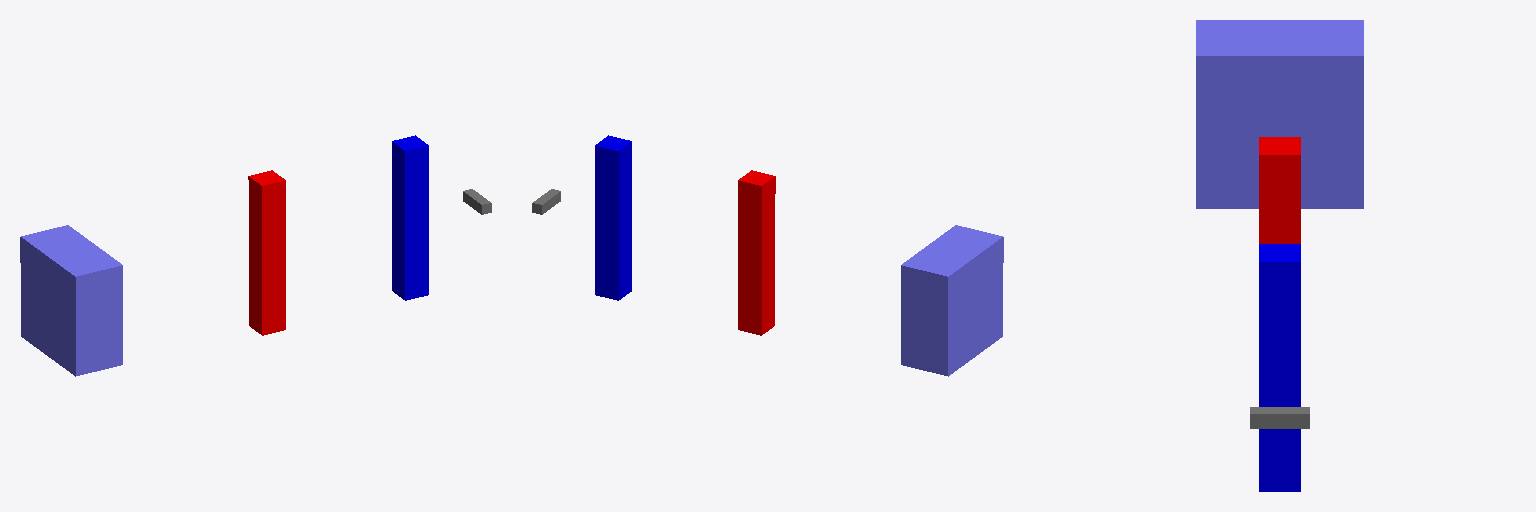
URDF robot description (Chain):
<?xml version="1.0"?>
<robot name="Chain">
<link name="base_link">

       <visual>
      <geometry>
	<box size="0.002 0.002 0.001" />
      </geometry>
      <origin rpy="0 1.57 0" xyz="0 0 0"/>
      <material name="black">
        <color rgba="0.5 0.5 1 1"/>
      </material>
    </visual>

    <collision>
      <geometry>
	<box size="0.002 0.002 0.001" />
      </geometry>
      <origin rpy="0 1.57 0" xyz="0 0 0"/>
    </collision>
    <inertial>
	<mass value="5"/>
	<inertia ixx="1.0" ixy="0.0" ixz="0.0" iyy="1.0" iyz="0.0" izz="1.0"/>
    </inertial>
  </link>


   <link name="link1">
    <visual>
      <geometry>
	<box size="0.003 0.0005 0.0005" />
      </geometry>
      <origin rpy="0 1.57 0" xyz="0.0021 0 0 "/>
      <material name="red">
        <color rgba="1 0 0 1"/>
      </material>
    </visual>
    <collision>
      <geometry>
	<box size="0.003 0.0005 0.0005" />

      </geometry>
      <origin rpy="0 1.57 0" xyz="0.0021 0 0 "/>
    </collision>
    <inertial>
	<mass value="1"/>
	<inertia ixx="1.0" ixy="0.0" ixz="0.0" iyy="1.0" iyz="0.0" izz="1.0"/>
    </inertial>
  </link>

<link name="link2">
    <visual>
      <geometry>
	<box size="0.003 0.0005 0.0005" />
      </geometry>
  <origin rpy="0 1.57 0" xyz="0.0021 0 0"/>
      <material name="blue">
        <color rgba="0 0 1 1"/>
      </material>
    </visual>
    <collision>
      <geometry>
	<box size="0.003 0.0005 0.0005" />
      </geometry>
  <origin rpy="0 1.57 0" xyz="0.0021 0 0"/>
    </collision>
    <inertial>
	<mass value="1"/>
	<inertia ixx="1.0" ixy="0.0" ixz="0.0" iyy="1.0" iyz="0.0" izz="1.0"/>
    </inertial>
  </link>
  


<link name="gripper">
    <visual>
      <geometry>
	<box size="0.0007 0.0002 0.0002" />
      </geometry>
      <origin rpy="0 0 1.57" xyz="0.001 0 0"/>
      <material name="white">
        <color rgba="0.5 0.5 0.5 1"/>
      </material>
    </visual>
    <collision>
      <geometry>
	<box size="0.0007 0.0002 0.0002" />
      </geometry>
      <origin rpy="0 0 1.57" xyz="0.0007 0 0"/>
    </collision>
    <inertial>
	<mass value="0.5"/>
	<inertia ixx="1.0" ixy="0.0" ixz="0.0" iyy="1.0" iyz="0.0" izz="1.0"/>
    </inertial>
  </link>

  <joint name="joint1" type="revolute">
    <parent link="base_link"/>
    <child link="link1"/>
    <origin xyz="0.002 0 0"/>
    <axis xyz="0 0 1" />
    <limit effort="300" velocity="0.1" lower="-1.55" upper="1.55"/>
    <dynamics damping="50" friction="1"/>
  </joint>

<joint name="joint2" type="revolute">
    <parent link="link1"/>
    <child link="link2"/>
    <origin xyz="0.003 0 0"/>
    <axis xyz="0 0 1" />
    <limit effort="300" velocity="0.1" lower="-1.50" upper="1.50"/>
    <dynamics damping="50" friction="1"/>
  </joint>

<joint name="joint3" type="revolute">
    <parent link="link2"/>
    <child link="gripper"/>
    <origin xyz="0.0025 0 0"/>
    <axis xyz="0 0 1" />
    <limit effort="300" velocity="0.1" lower="-1" upper="1"/>
    <dynamics damping="50" friction="1"/>
  </joint>

  
  </robot>

--- Facts derived from the render (not from the file) ---
Views: 3 orthographic renders of the robot side by side, from view 1: azimuth 30°, elevation 25°; view 2: azimuth 150°, elevation 25°; view 3: azimuth 270°, elevation 25°.
Robot: Chain — 4 links, 3 joints (3 revolute); root link base_link; default pose: all joints at 0.
Visible links, largest first — view 1: base_link, link1, link2; view 2: base_link, link1, link2; view 3: base_link, link2, link1, gripper.
Boxes of the visible links, bbox=[...] form: base_link: bbox=[20, 225, 122, 376]; link1: bbox=[248, 170, 285, 335]; link2: bbox=[392, 135, 428, 300]; base_link: bbox=[901, 225, 1003, 376]; link1: bbox=[738, 170, 775, 335]; link2: bbox=[595, 135, 631, 300]; base_link: bbox=[1196, 20, 1363, 208]; link2: bbox=[1259, 244, 1300, 491]; link1: bbox=[1259, 137, 1300, 243]; gripper: bbox=[1250, 407, 1309, 428].
Bounding box of the posed robot: 0.0091 × 0.002 × 0.003 m (x, y, z).
Geometry: primitives only (box / cylinder / sphere), no mesh files.
